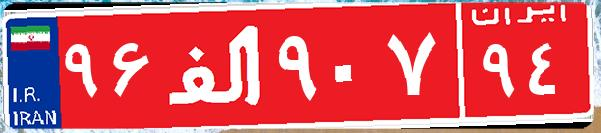0: (330, 28, 385, 110)
4: (525, 38, 570, 115)
6: (110, 28, 158, 105)
7: (385, 28, 445, 110)
9: (273, 28, 330, 110), (57, 26, 110, 107), (475, 38, 525, 113)
الف: (158, 15, 273, 115)
